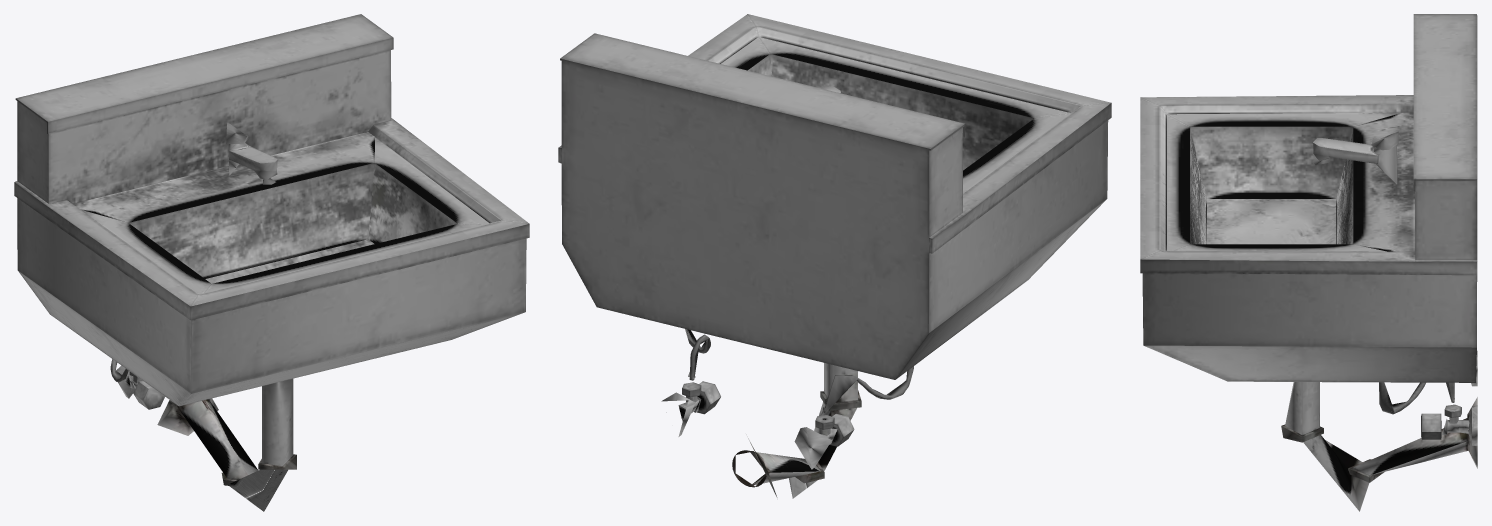
The model's file is bw-sink.lod0.glb.
3 renders of one model, left to right at view 1: azimuth 30°, elevation 25°; view 2: azimuth 150°, elevation 25°; view 3: azimuth 270°, elevation 25°, orthographic. The views are drawn at different scales.
Parts seen in each view (by area): view 1: Drain_MetalSink_MTL_0; view 2: Drain_MetalSink_MTL_0; view 3: Drain_MetalSink_MTL_0.
Boxes of the visible parts, x1=… form: Drain_MetalSink_MTL_0: x1=14, y1=14, x2=529, y2=511; Drain_MetalSink_MTL_0: x1=558, y1=14, x2=1111, y2=498; Drain_MetalSink_MTL_0: x1=1140, y1=14, x2=1477, y2=511.
Size of the model in its own units: 0.55 by 0.6267 by 0.47.
1 material, 1 textured.
